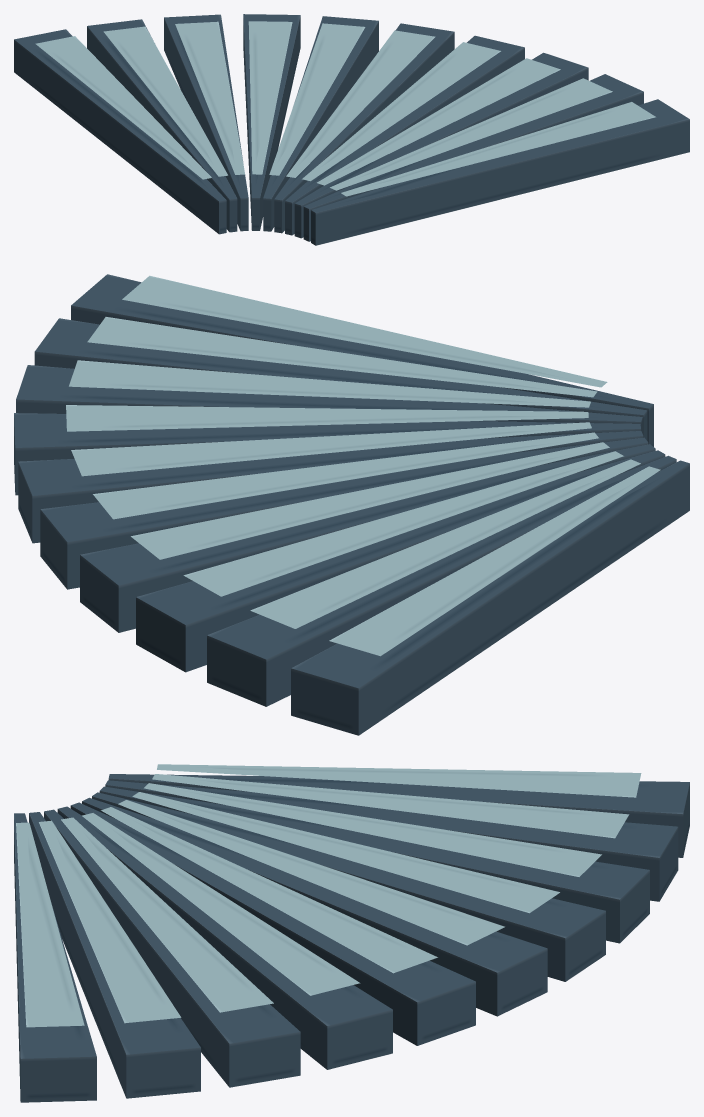
The model's file is sc_tread_curve_left_5.obj.
3 renders of one model, top to bottom at view 1: azimuth 30°, elevation 25°; view 2: azimuth 150°, elevation 25°; view 3: azimuth 270°, elevation 25°, orthographic. The views are drawn at different scales.
Size of the model in its own units: 17.42 by 1.56 by 17.46.
1 material, 1 textured.
